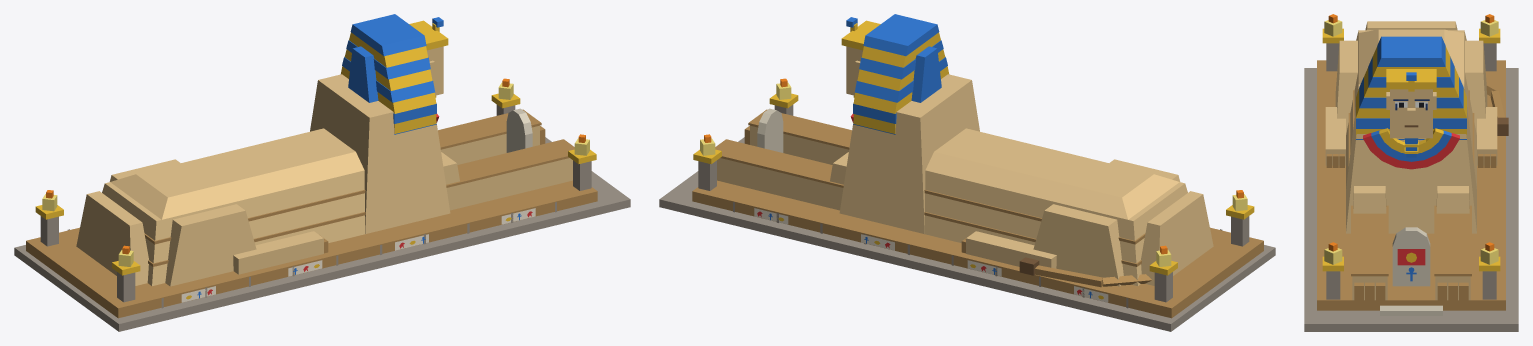
File: sphinx.glb
3 renders of one model, left to right at view 1: azimuth 30°, elevation 25°; view 2: azimuth 150°, elevation 25°; view 3: azimuth 270°, elevation 25°, orthographic. The views are drawn at different scales.
Visible parts, largest first — view 1: Body; view 2: Body; view 3: Body.
Boxes of the visible parts, x1=… form: Body: x1=14, y1=14, x2=630, y2=331; Body: x1=659, y1=14, x2=1275, y2=331; Body: x1=1304, y1=14, x2=1518, y2=331.
Bounding box in the file's own units: 4.8 × 1.66 × 1.7.
